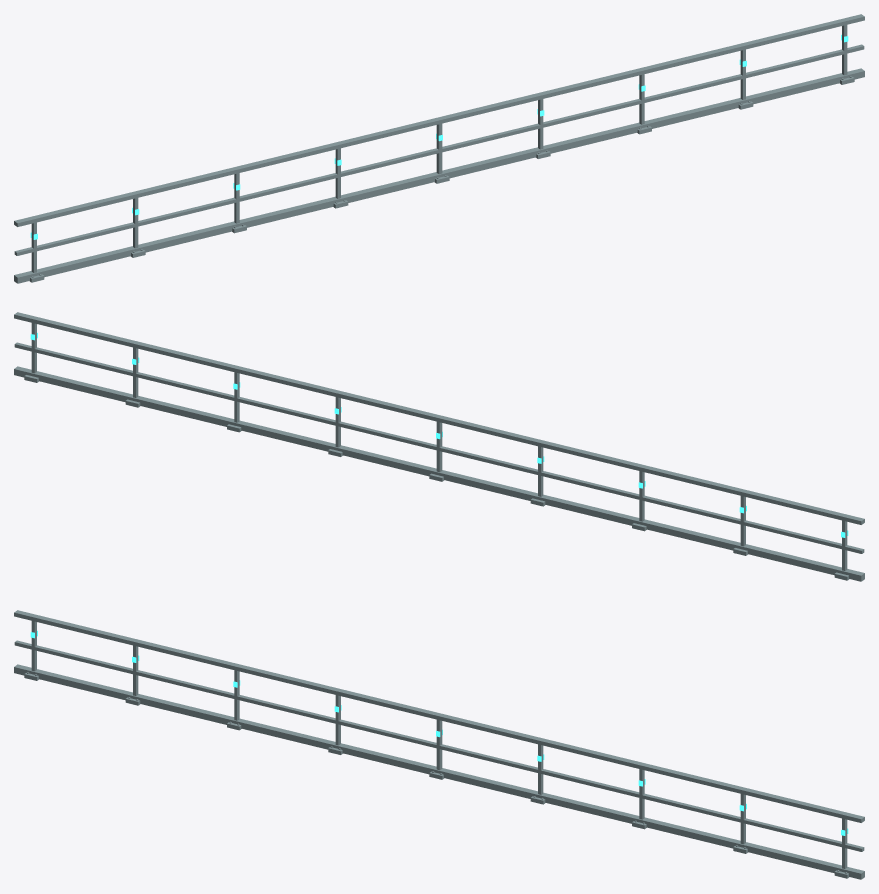
The model's file is RoadPlan_Parapet_L16.glb.
3 renders of one model, top to bottom at view 1: azimuth 30°, elevation 25°; view 2: azimuth 150°, elevation 25°; view 3: azimuth 330°, elevation 25°, orthographic.
Parts seen in each view (by area): view 1: RoadPlan_Parapet_L16_ToeRail, RoadPlan_Parapet_L16_TopRail, RoadPlan_Parapet_L16_MidRail; view 2: RoadPlan_Parapet_L16_ToeRail, RoadPlan_Parapet_L16_TopRail, RoadPlan_Parapet_L16_MidRail; view 3: RoadPlan_Parapet_L16_ToeRail, RoadPlan_Parapet_L16_TopRail, RoadPlan_Parapet_L16_MidRail.
Part boxes in pixels (x1=…): RoadPlan_Parapet_L16_ToeRail: x1=14, y1=68, x2=864, y2=283; RoadPlan_Parapet_L16_TopRail: x1=14, y1=14, x2=864, y2=226; RoadPlan_Parapet_L16_MidRail: x1=14, y1=44, x2=864, y2=255; RoadPlan_Parapet_L16_ToeRail: x1=14, y1=366, x2=864, y2=581; RoadPlan_Parapet_L16_TopRail: x1=14, y1=312, x2=864, y2=524; RoadPlan_Parapet_L16_MidRail: x1=14, y1=342, x2=864, y2=553; RoadPlan_Parapet_L16_ToeRail: x1=14, y1=664, x2=864, y2=879; RoadPlan_Parapet_L16_TopRail: x1=14, y1=610, x2=864, y2=822; RoadPlan_Parapet_L16_MidRail: x1=14, y1=640, x2=864, y2=851.
Bounding box in the file's own units: 16 × 1.1 × 0.24.
